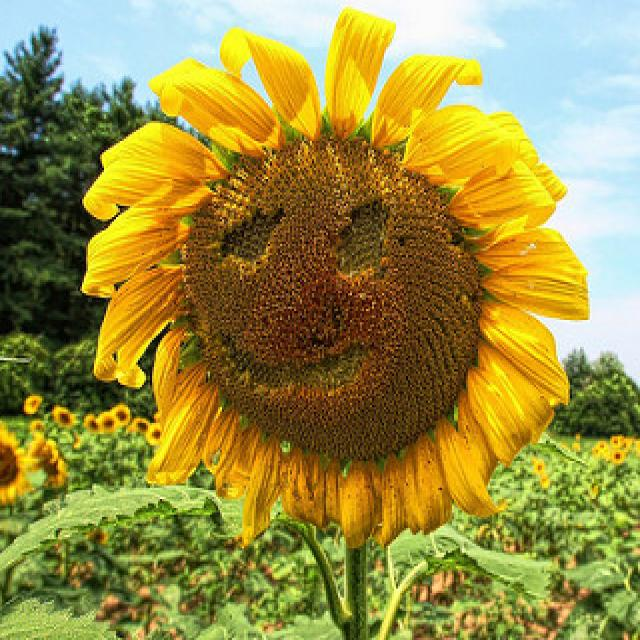sunflower: (76, 0, 594, 551), (0, 417, 34, 509), (50, 404, 78, 435), (107, 400, 133, 428), (20, 389, 44, 418), (81, 412, 105, 436), (98, 409, 118, 436), (145, 423, 167, 447), (130, 415, 152, 435), (610, 448, 626, 466), (532, 459, 546, 474), (609, 435, 623, 449)
